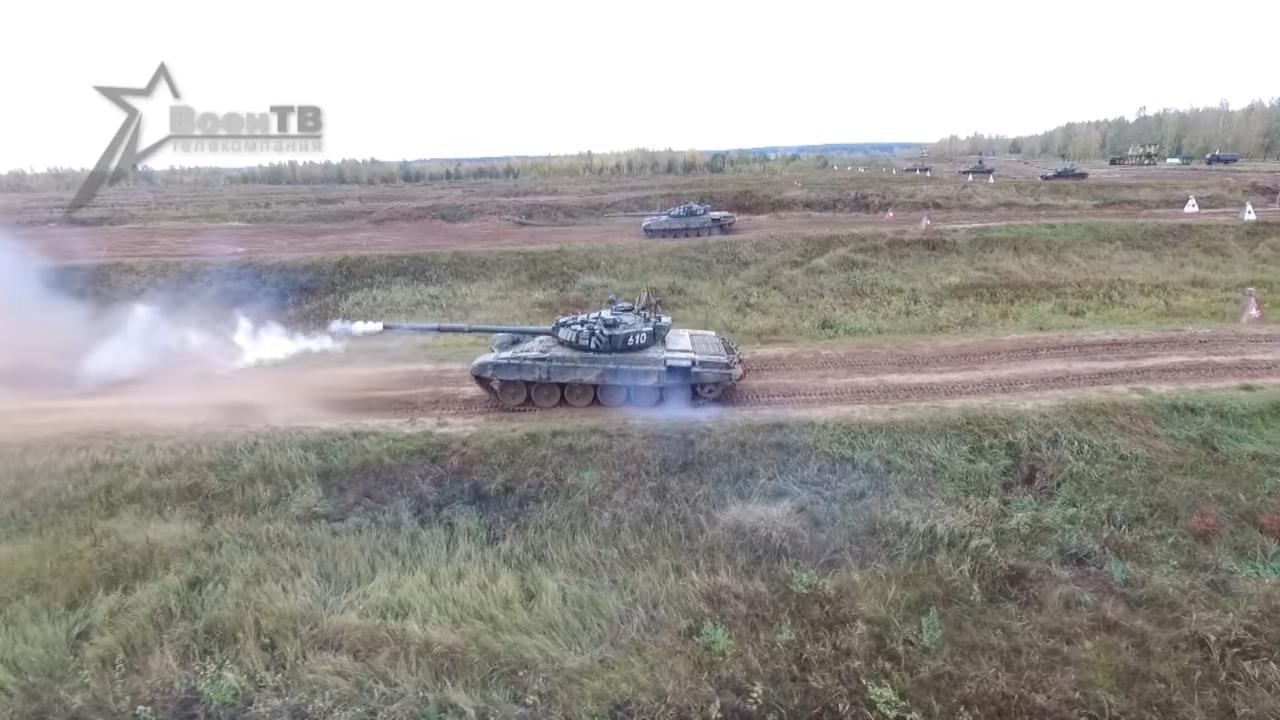tank: (383, 304, 749, 413), (605, 201, 737, 240), (1041, 168, 1090, 181), (959, 162, 995, 176)
